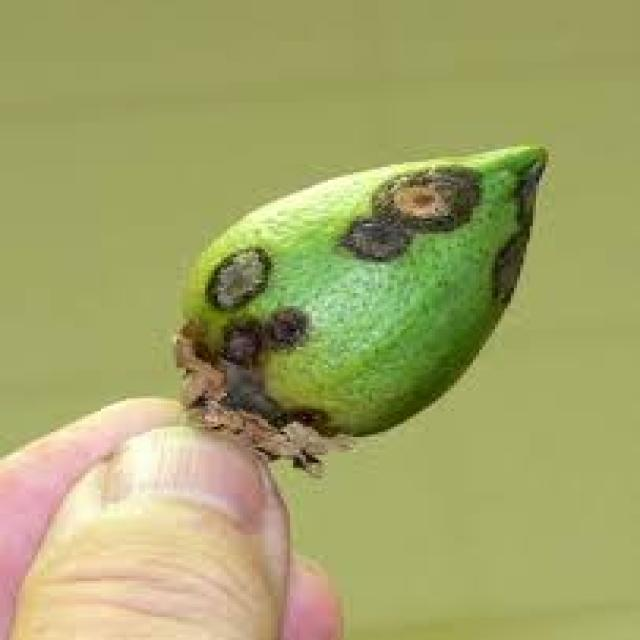Cotton Ball Rot: (167, 139, 555, 475), (202, 244, 274, 314)
Green Cotton Boll: (134, 134, 615, 533)
